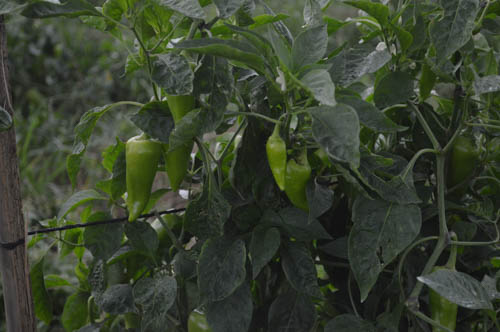ChiliPepper: (122, 138, 160, 221), (448, 136, 473, 192), (164, 142, 190, 191), (427, 291, 456, 332), (284, 159, 308, 207), (262, 139, 287, 184), (167, 91, 196, 119)
